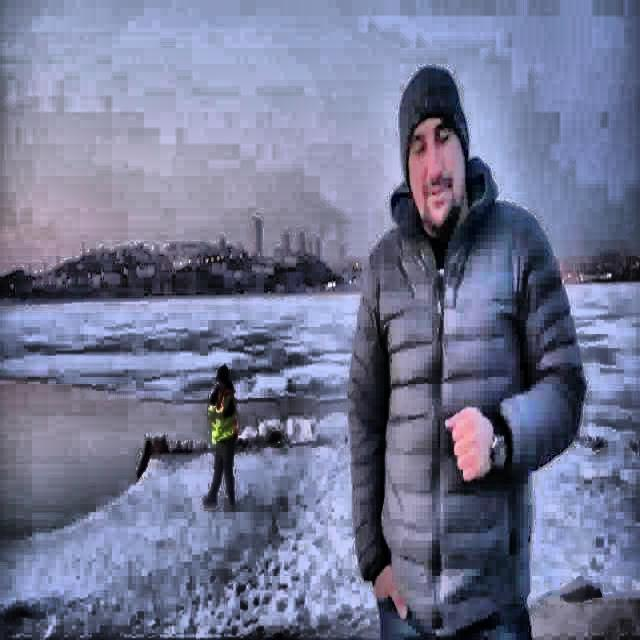safety_jacket: (210, 386, 237, 450)
